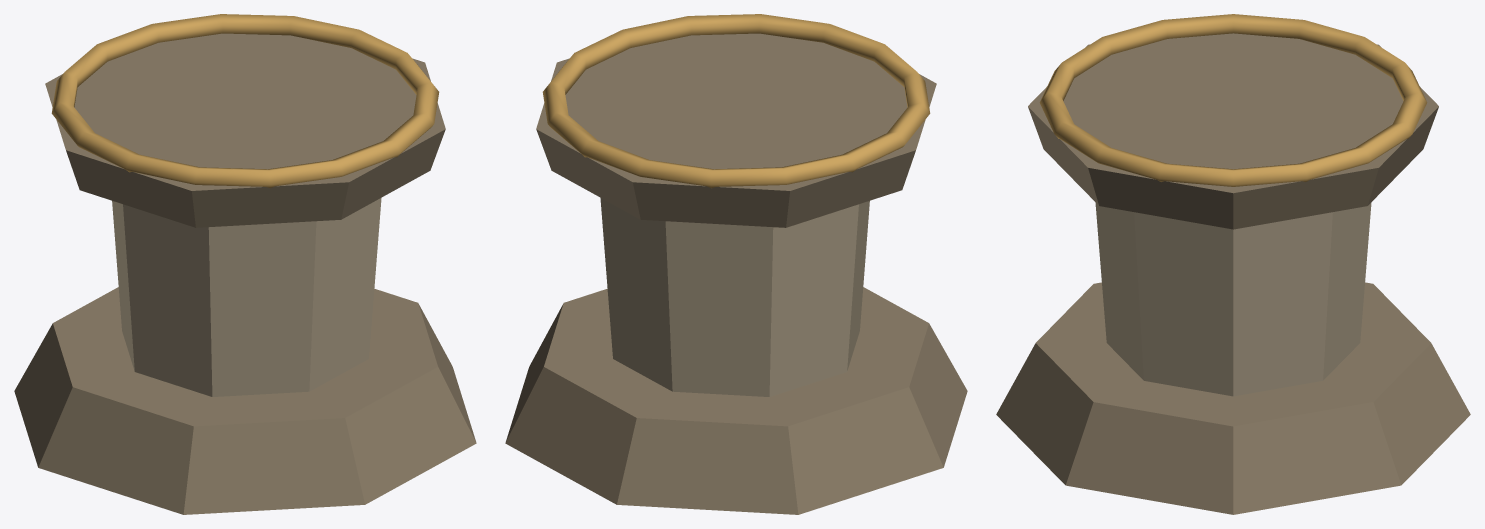
Rendered from pedestal.glb.
3 renders of one model, left to right at view 1: azimuth 30°, elevation 25°; view 2: azimuth 150°, elevation 25°; view 3: azimuth 270°, elevation 25°, orthographic.
Visible parts, largest first — view 1: pedestal; view 2: pedestal; view 3: pedestal.
Boxes of the visible parts, x1,y1,x2,y2 form: pedestal: (14, 14, 476, 514); pedestal: (505, 14, 967, 514); pedestal: (996, 14, 1470, 514).
Size of the model in its own units: 1.2 by 0.8985 by 1.2.
